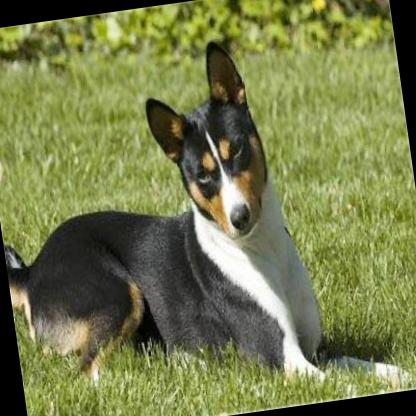basenji: (0, 16, 411, 416)
